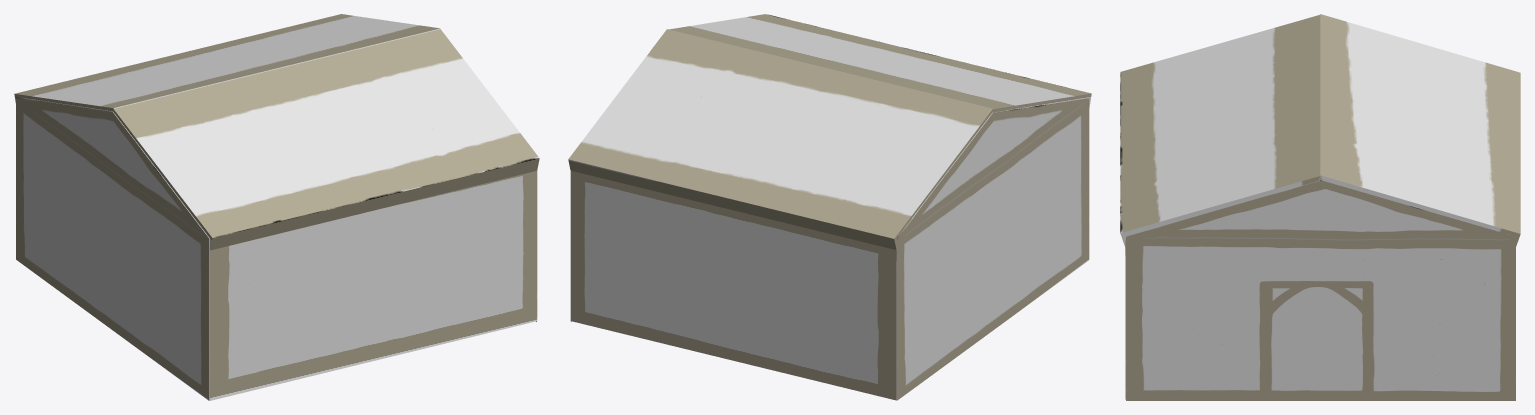
File: gh5-blend.fbx
3 views of the same model, side by side, from view 1: azimuth 30°, elevation 25°; view 2: azimuth 150°, elevation 25°; view 3: azimuth 270°, elevation 25° (orthographic).
Visible parts, largest first — view 1: Cube.001; view 2: Cube.001; view 3: Cube.001.
Part boxes in pixels (left/top/right/bottom): Cube.001: left=14, top=14, right=539, bottom=400; Cube.001: left=568, top=14, right=1091, bottom=400; Cube.001: left=1120, top=14, right=1520, bottom=400.
Bounding box in the file's own units: 235 × 153 × 246.
Materials: 4 (3 with a texture image).
